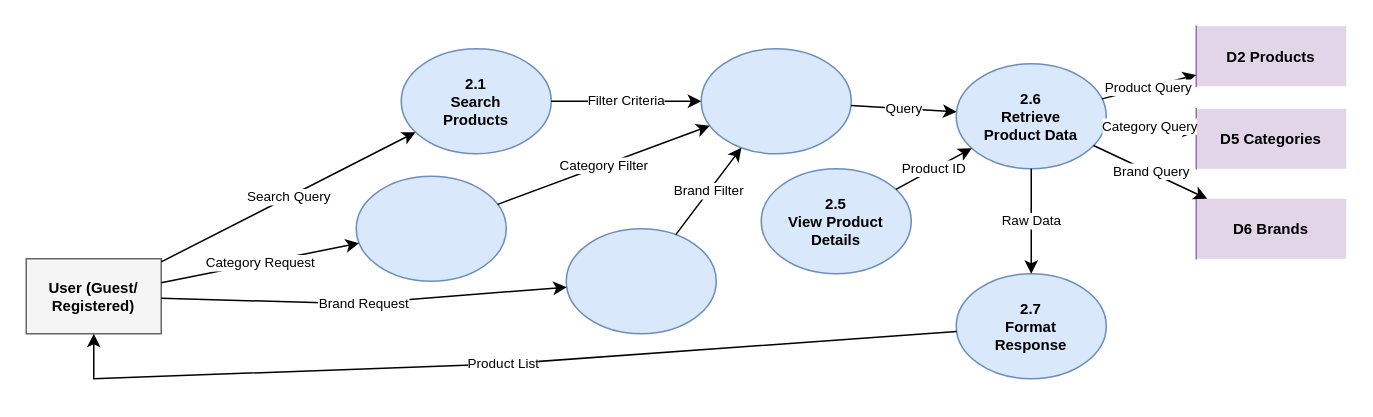
Some shapes in this 1373 by 417 pixel diagram are drawn without their labels. Here are the shapes that lost their labels. From the top down, the box of each, then its label:
(700, 47, 851, 154): 2.4 Filter Products
(355, 175, 506, 281): 2.2 Browse by Category
(565, 227, 716, 334): 2.3 Browse by Brand
